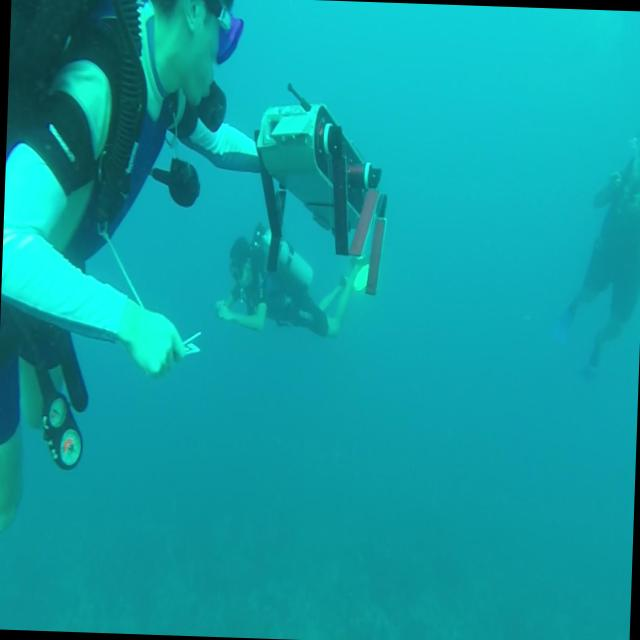human: (0, 0, 247, 541), (553, 132, 640, 375), (214, 218, 370, 339)
